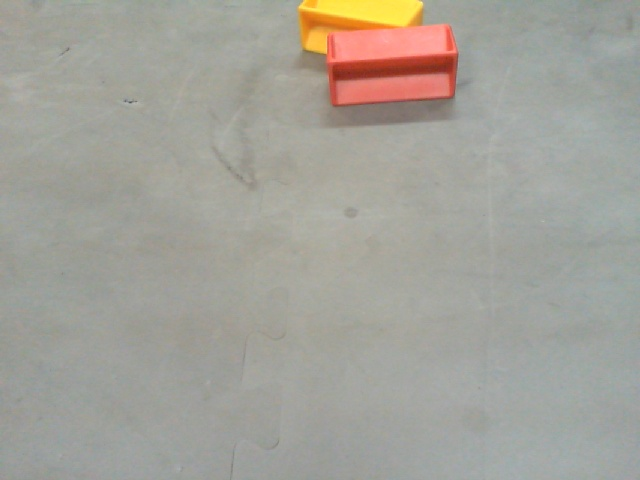RedSample: (325, 23, 457, 107)
YellowSample: (296, 1, 423, 58)
